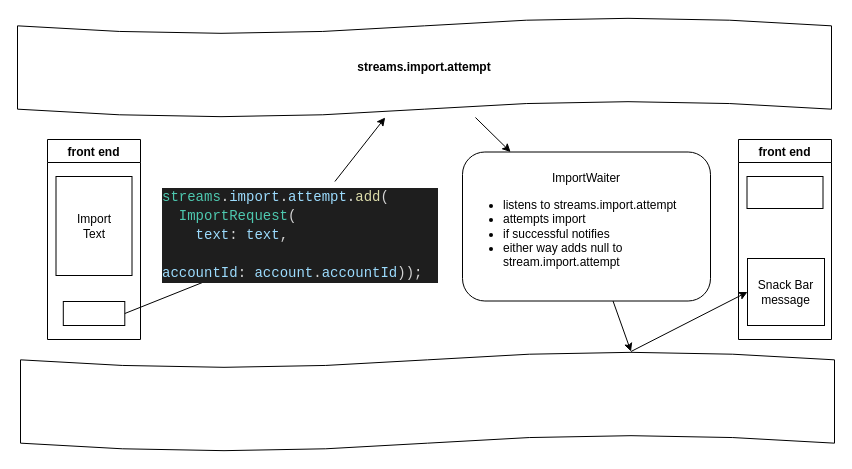
This 852x469 diagram has some shape labels left out. The centre of each missing label's shape, as x and y in pixels:
Home page: (x=784, y=192)
Import: (x=93, y=313)
streams.app.behavior.snack: (x=427, y=401)
